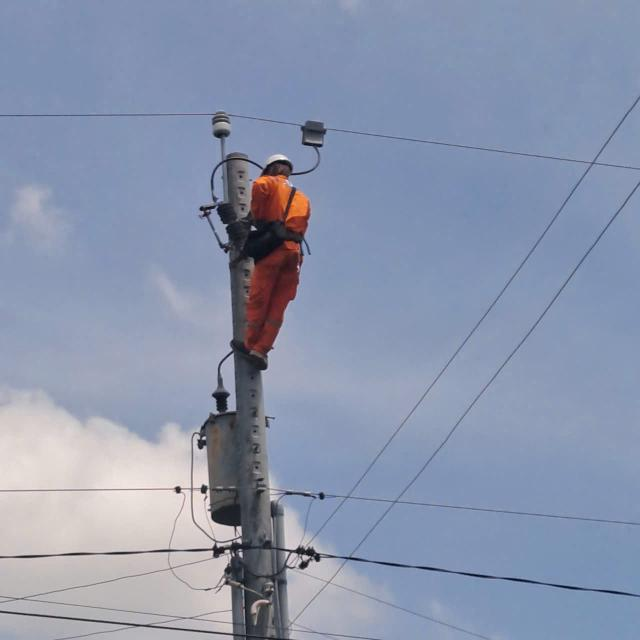harness: (251, 219, 311, 247)
helmet: (256, 152, 301, 178)
shoes: (225, 334, 256, 359), (249, 347, 273, 372)
